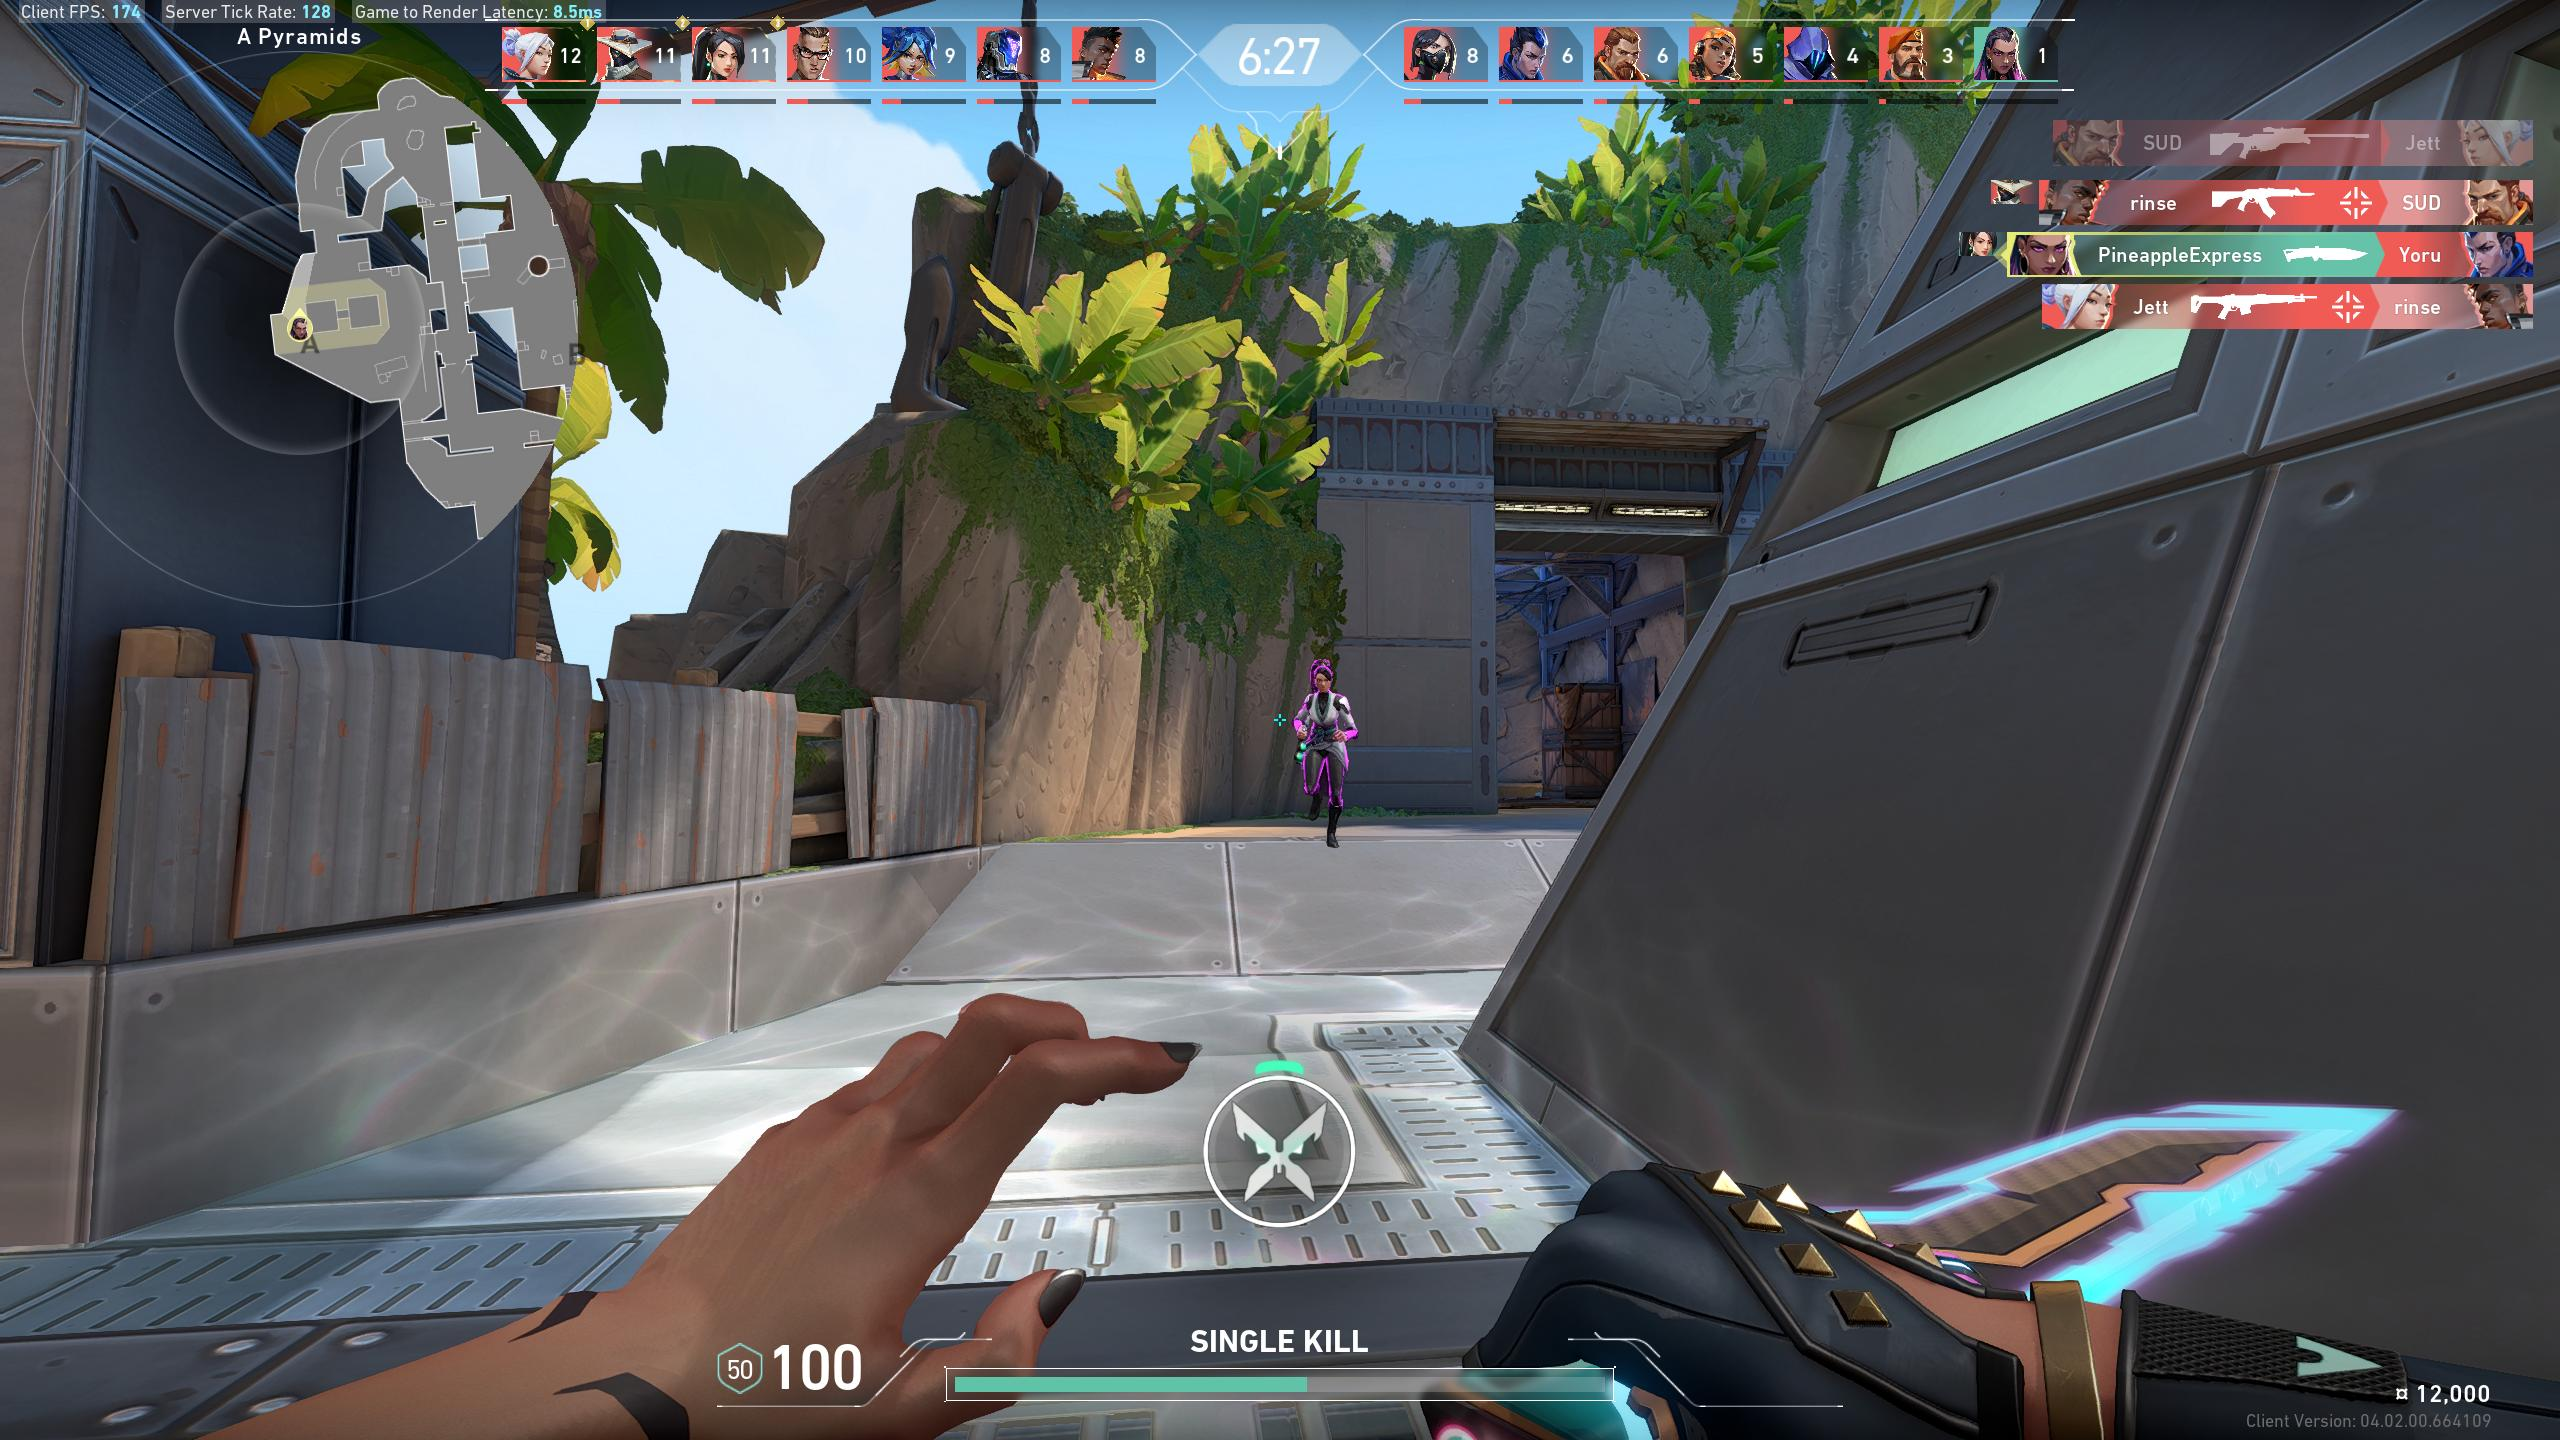enemyBody: (1312, 695, 1342, 737)
enemyHead: (1319, 673, 1327, 691)
